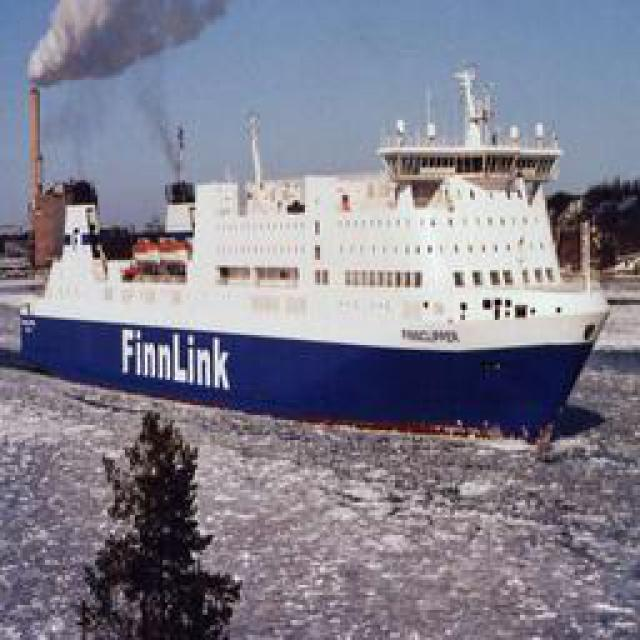Ship: (9, 66, 612, 426)
